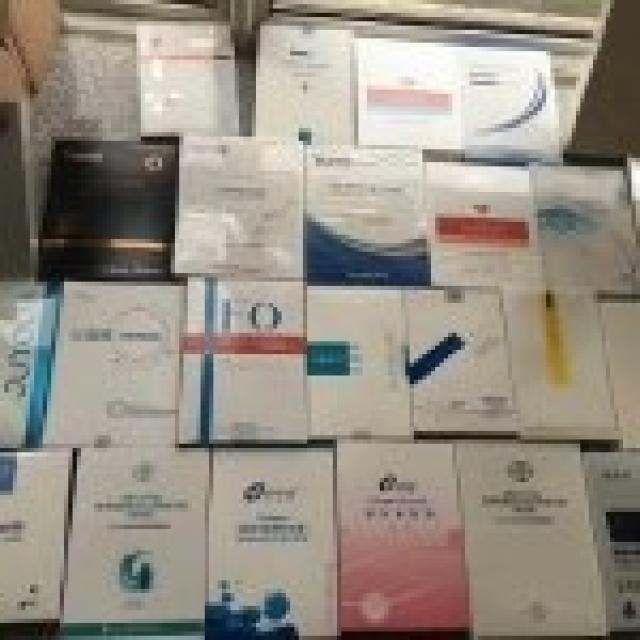box: (457, 439, 610, 640), (60, 444, 213, 640), (337, 435, 474, 640), (205, 444, 341, 640), (43, 277, 183, 448), (179, 277, 307, 444), (38, 137, 183, 282), (508, 290, 623, 452), (171, 137, 303, 277), (401, 290, 521, 439), (307, 145, 427, 286), (307, 286, 414, 439), (427, 162, 546, 290), (0, 448, 73, 640), (533, 166, 640, 294), (132, 17, 239, 141), (457, 47, 567, 166), (354, 38, 461, 158), (252, 26, 354, 145), (580, 452, 640, 640), (0, 277, 64, 448), (597, 299, 640, 452)
